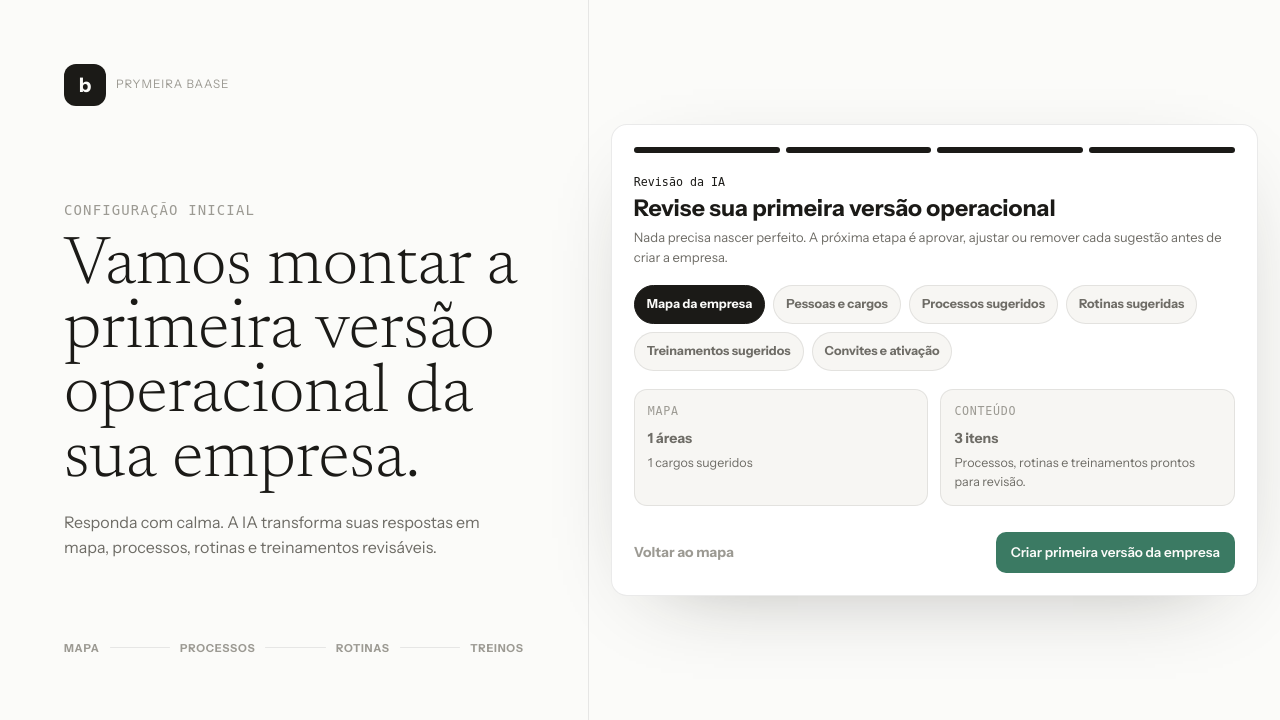
Scenario: Baase React app shell › edits a generated process in review and completes onboarding
Check: the heading "Revise sua primeira versão operacional" is shown, box [634,194,1056,222]
Click the button "Processos sugeridos".
click(983, 305)  # box [909,285,1058,324]
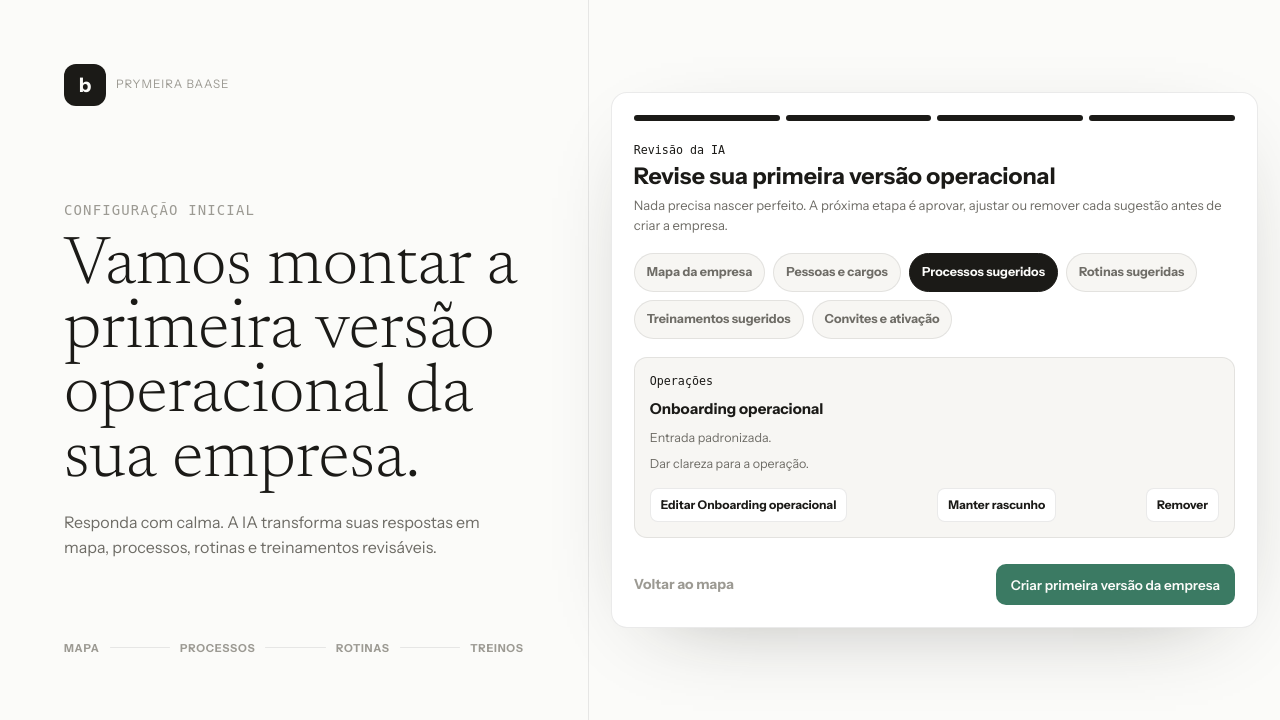
Click the button "Editar Onboarding operacional".
click(749, 505)  # box [650,488,848,522]
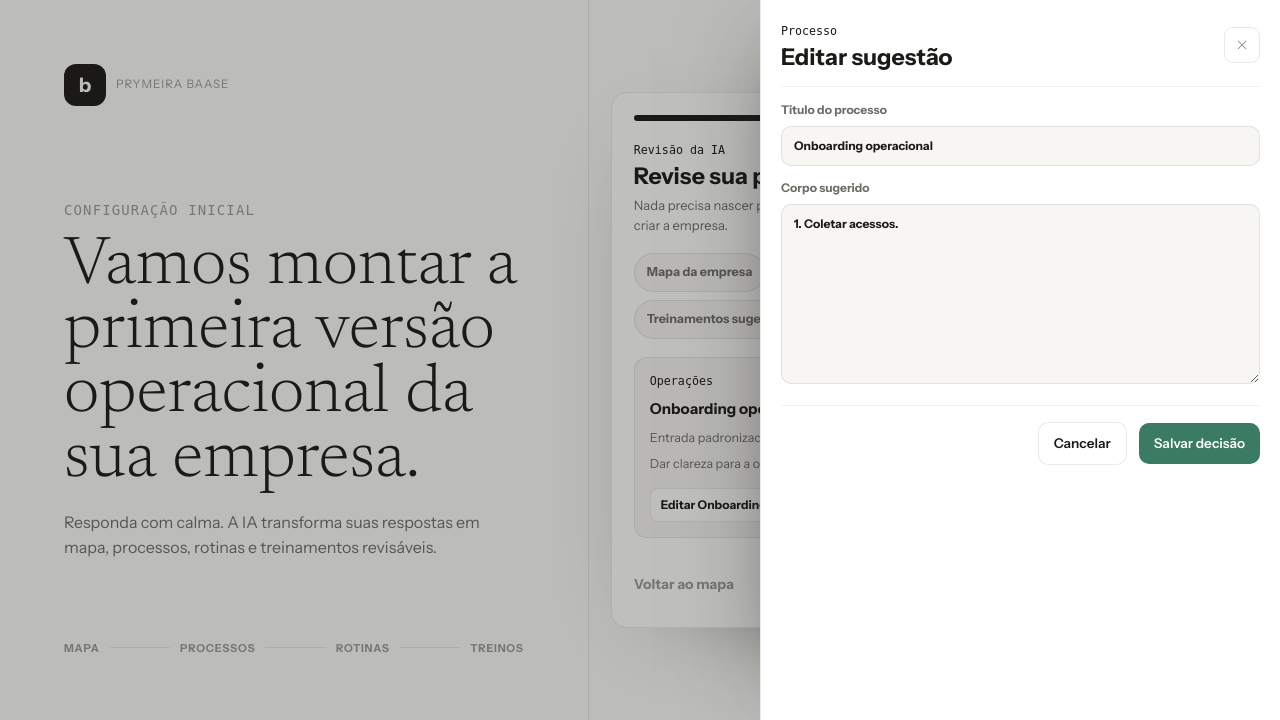
Replace the text in the field labelled "Titulo do processo" with "Onboarding ajustado" at (1020, 146), box [781,126,1260,166]
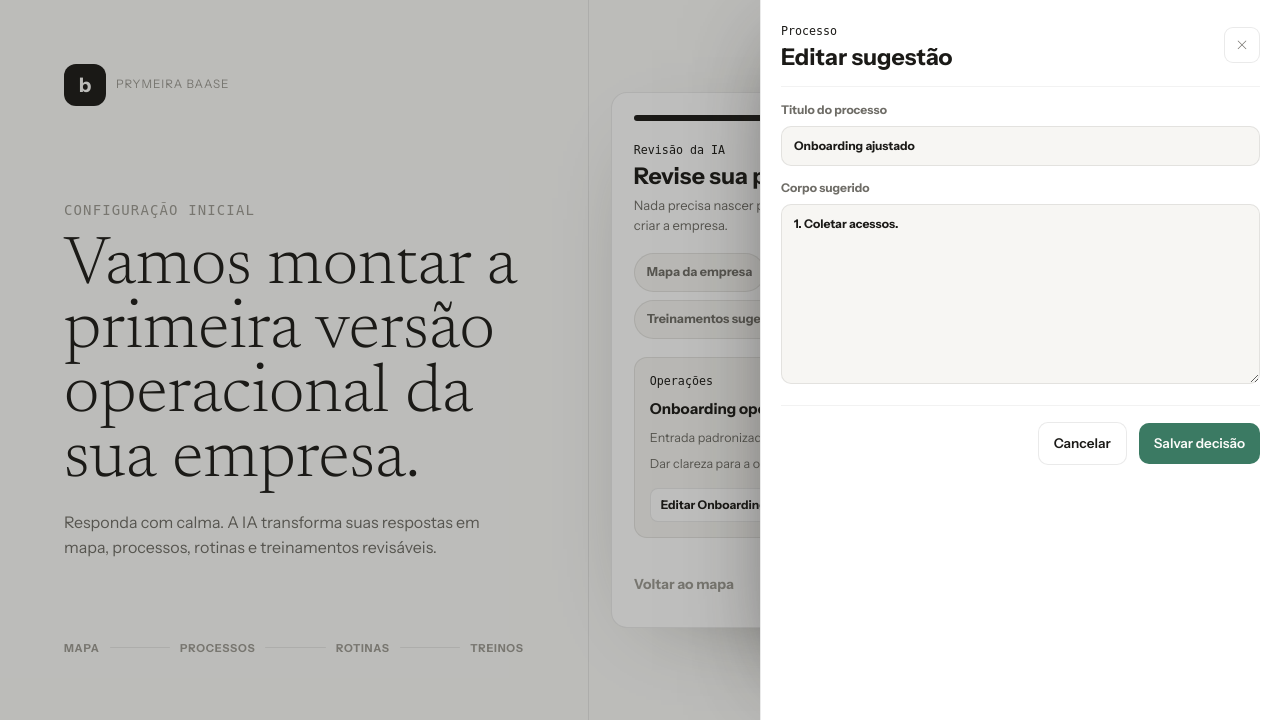
Click the button "Salvar decisão".
click(1199, 443)  # box [1139,423,1260,464]
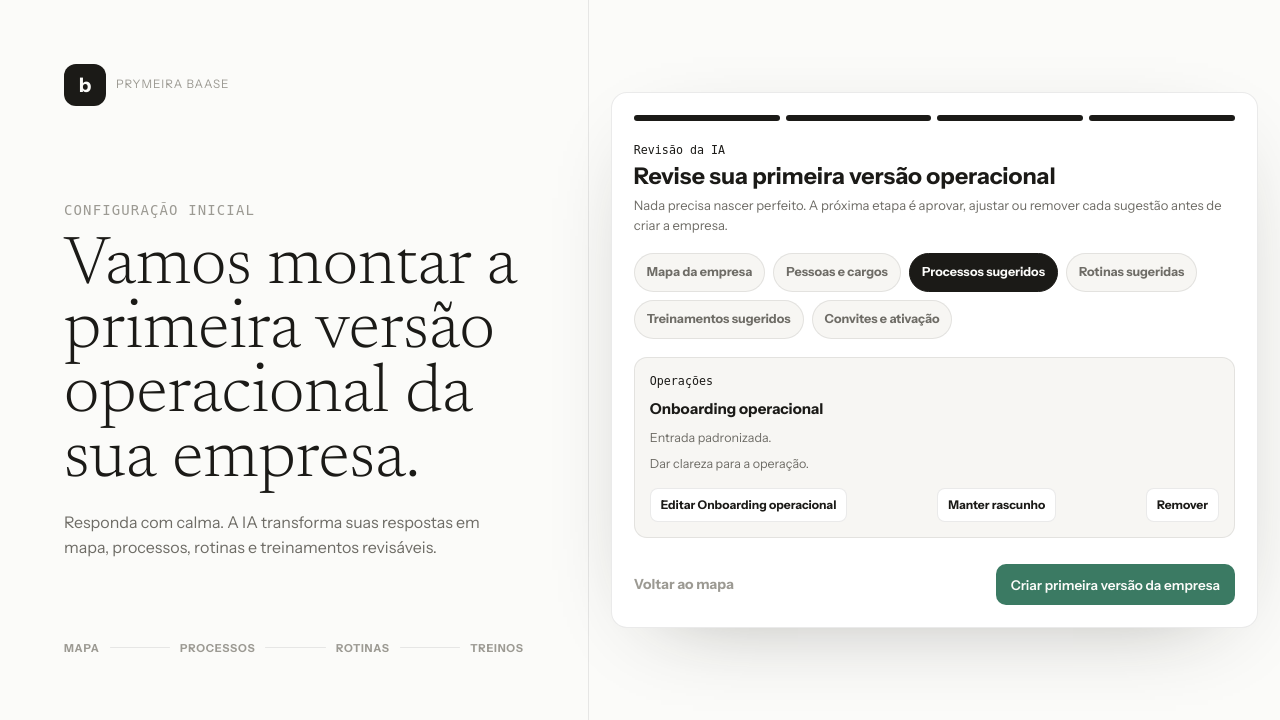
Click the button "Criar primeira versão da empresa".
click(1115, 585)  # box [996,564,1235,605]
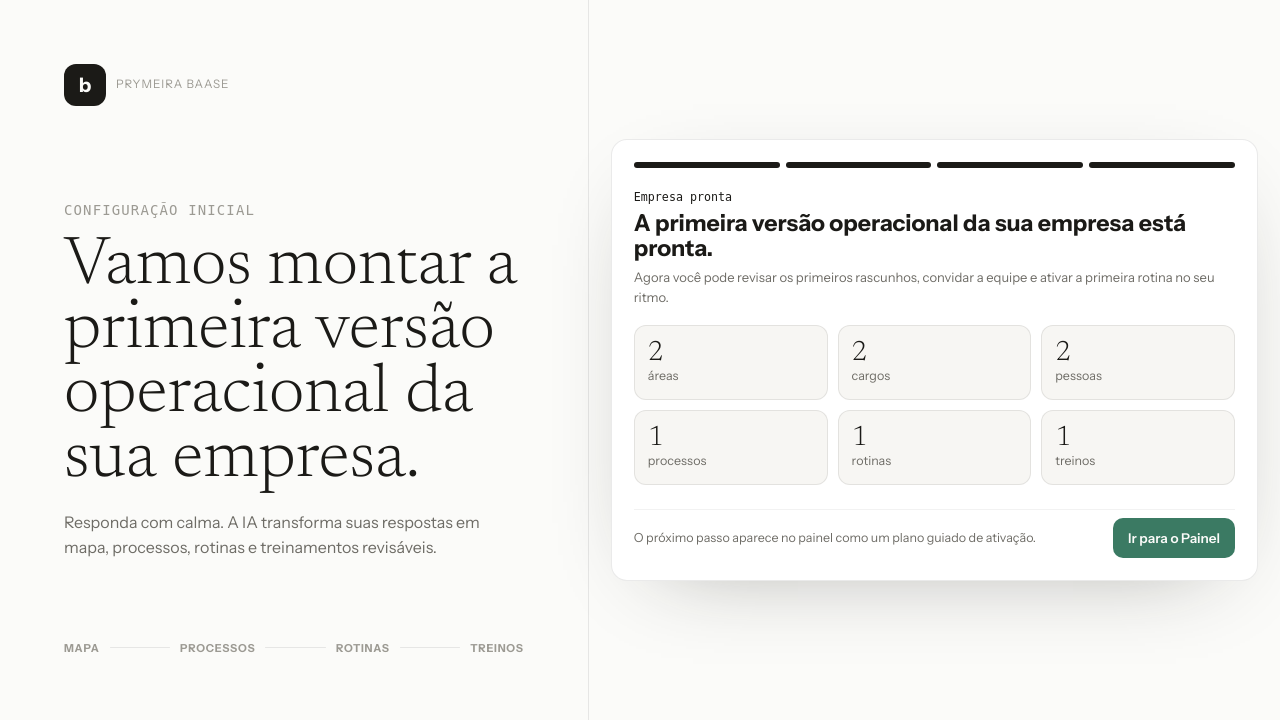
Check: the heading "A primeira versão operacional da sua empresa está pronta." is shown, box [634,211,1235,261]
